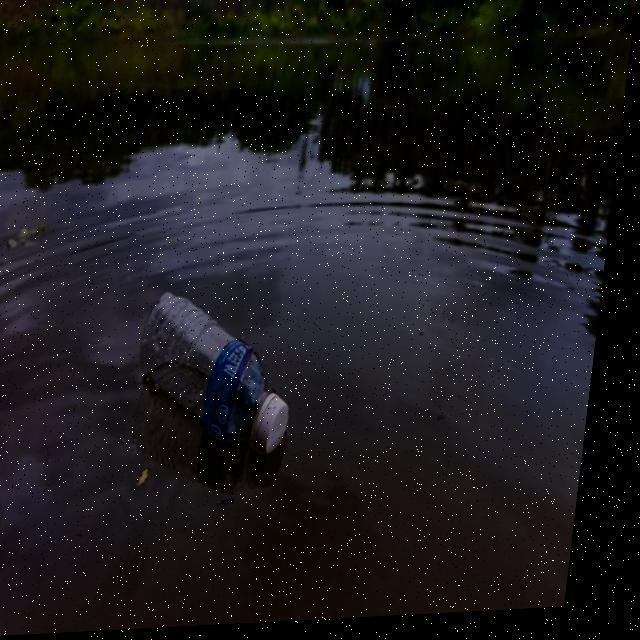leaf: (0, 196, 93, 282)
waterbottle: (102, 267, 334, 507)
